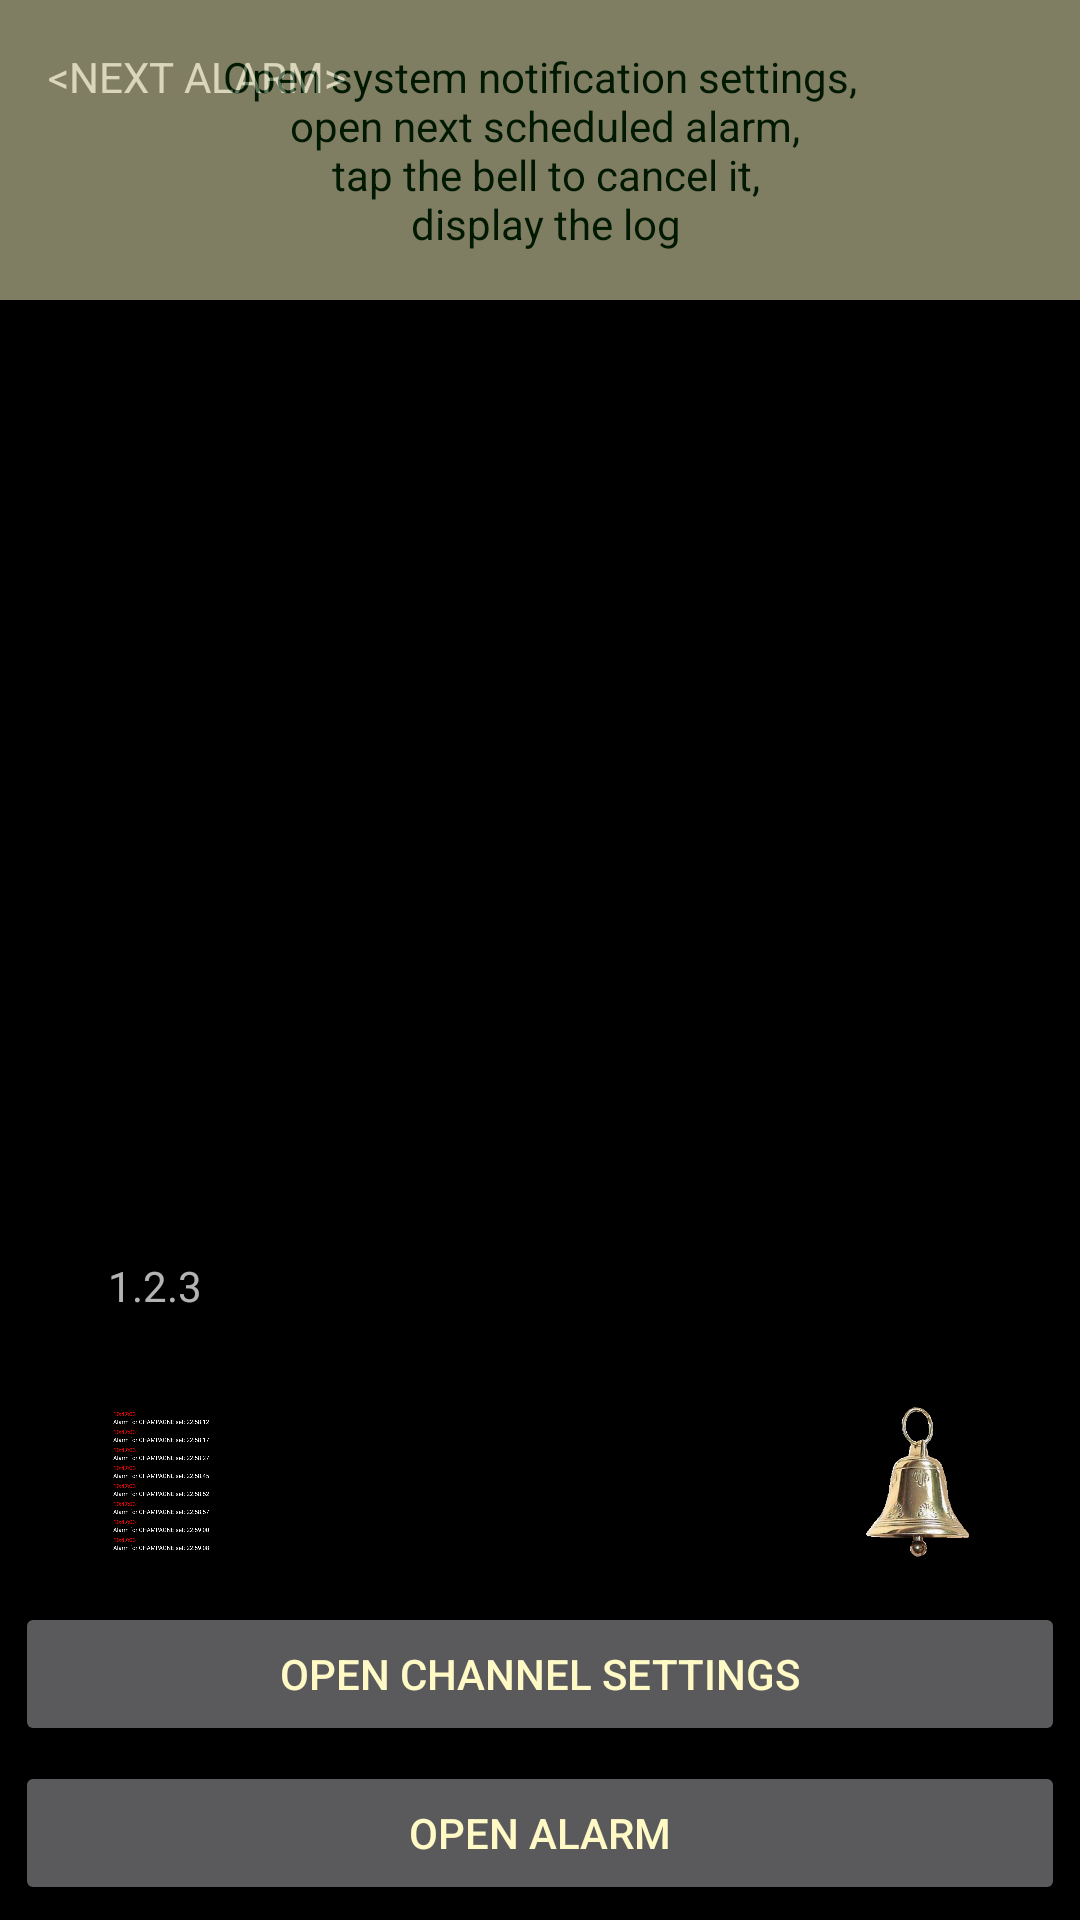

Icons on this 1080w x 1920h Android screen, each with its box as [left=x1, top=y1, right=x2, bottom=y2]:
Start alarm: [left=866, top=1407, right=969, bottom=1557]
